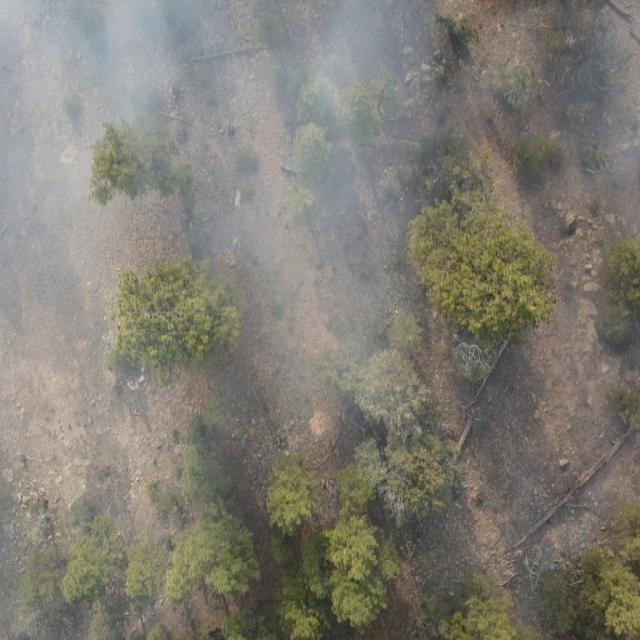smoke: (0, 0, 640, 551), (0, 552, 199, 640)
